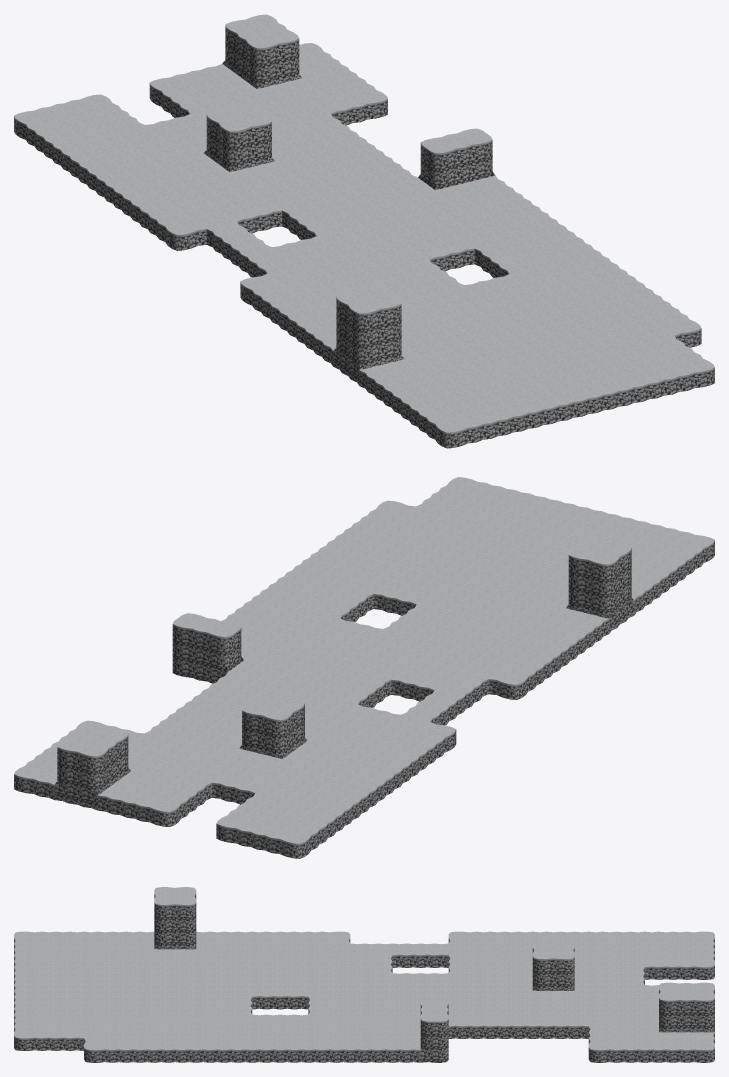
The model's file is StageBumpiness.fbx.
The picture shows the model from 3 angles, top to bottom: view 1: azimuth 30°, elevation 25°; view 2: azimuth 150°, elevation 25°; view 3: azimuth 270°, elevation 25°; orthographic projection. The views are drawn at different scales.
Parts seen in each view (by area): view 1: Terrain.001; view 2: Terrain.001; view 3: Terrain.001.
Boxes of the visible parts, x1=… form: Terrain.001: x1=14, y1=14, x2=714, y2=448; Terrain.001: x1=14, y1=477, x2=714, y2=858; Terrain.001: x1=14, y1=887, x2=714, y2=1062.
Size of the model in its own units: 90 by 20.25 by 225.
Materials: 1 (1 with a texture image).
